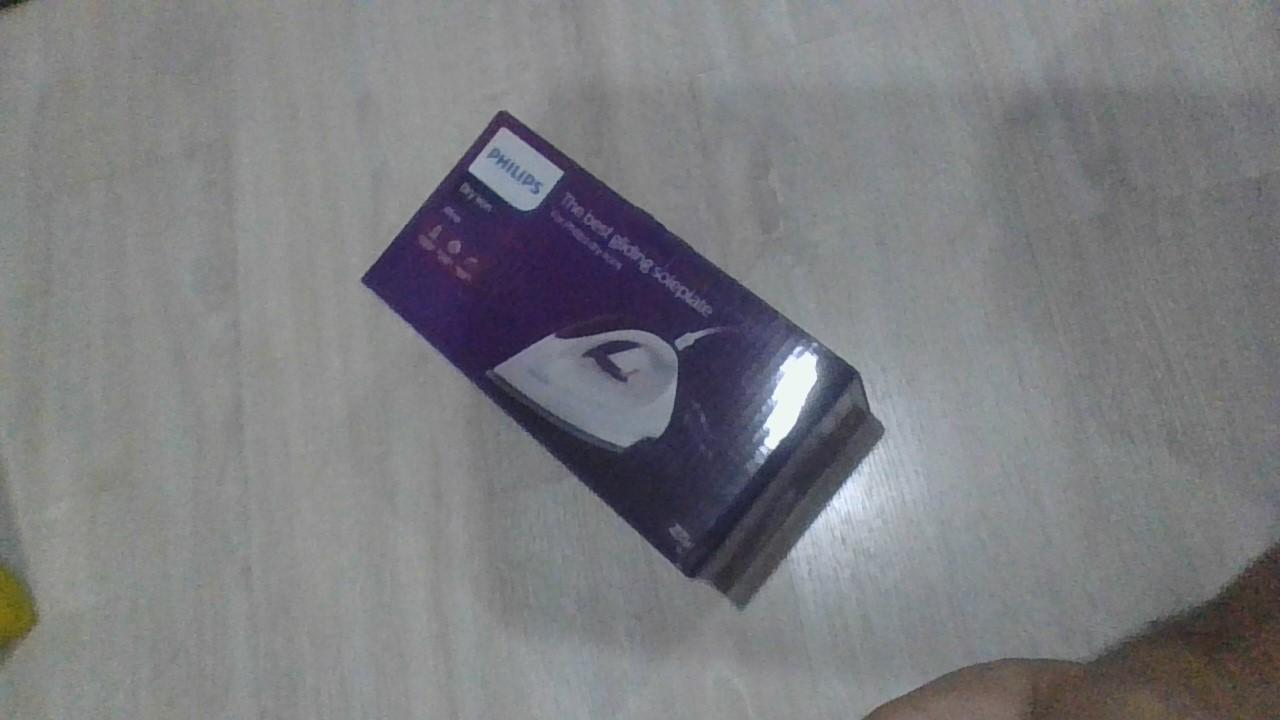IRON: (356, 106, 888, 612)
